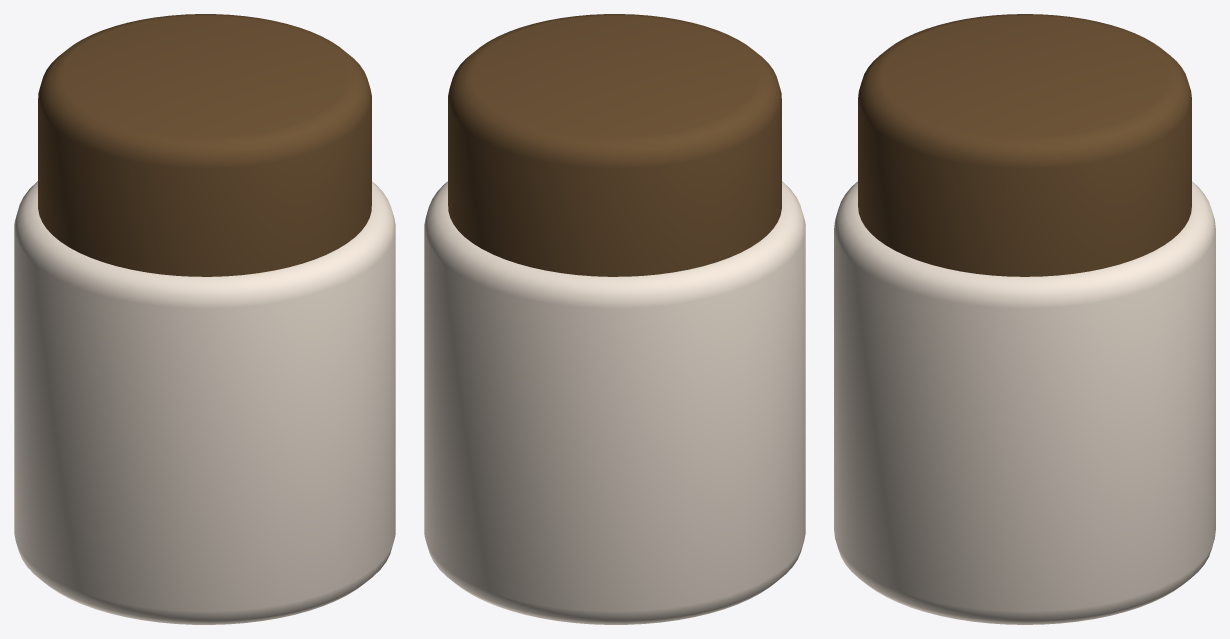
Rendered from f52c7d91-6caf-48c0-a63c-55cf0ffc78d4.glb.
3 views of the same model, side by side, from view 1: azimuth 30°, elevation 25°; view 2: azimuth 150°, elevation 25°; view 3: azimuth 270°, elevation 25° (orthographic).
Parts seen in each view (by area): view 1: Cup, Coffee; view 2: Cup, Coffee; view 3: Cup, Coffee.
Boxes of the visible parts, <box> form: Cup: <box>14,181,395,624</box>; Coffee: <box>38,14,371,276</box>; Cup: <box>424,181,805,624</box>; Coffee: <box>448,14,781,276</box>; Cup: <box>834,181,1215,624</box>; Coffee: <box>858,14,1191,276</box>.
Bounding box in the file's own units: 0.08 × 0.11 × 0.08.
